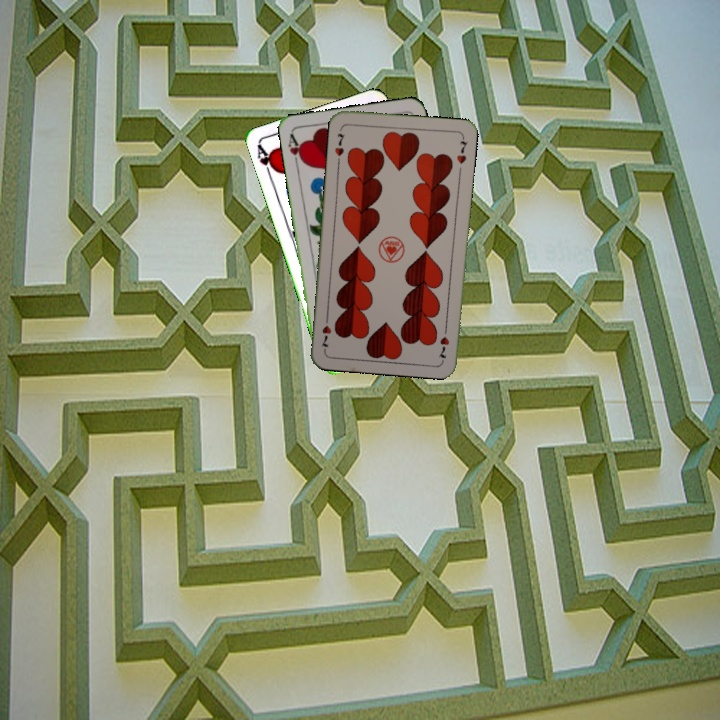H7: (435, 322, 452, 362), (331, 129, 347, 158)
HA: (253, 141, 280, 181), (284, 130, 307, 170)
